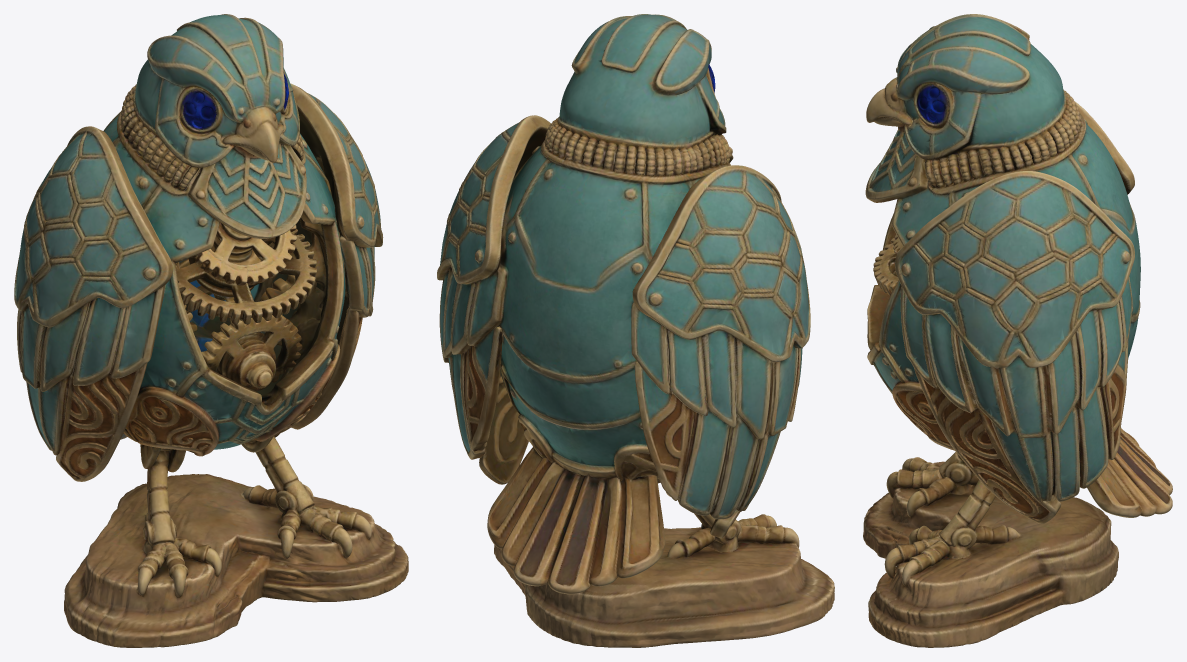
File: OWL.glb
3 renders of one model, left to right at view 1: azimuth 30°, elevation 25°; view 2: azimuth 150°, elevation 25°; view 3: azimuth 270°, elevation 25°, orthographic. The views are drawn at different scales.
Visible parts, largest first — view 1: Mesh_0; view 2: Mesh_0; view 3: Mesh_0.
Boxes of the visible parts, bbox=[...] form: Mesh_0: bbox=[14, 14, 408, 647]; Mesh_0: bbox=[437, 14, 834, 647]; Mesh_0: bbox=[863, 14, 1172, 647].
Size of the model in its own units: 1.21 by 1.9 by 0.9706.
1 material, 1 textured.
